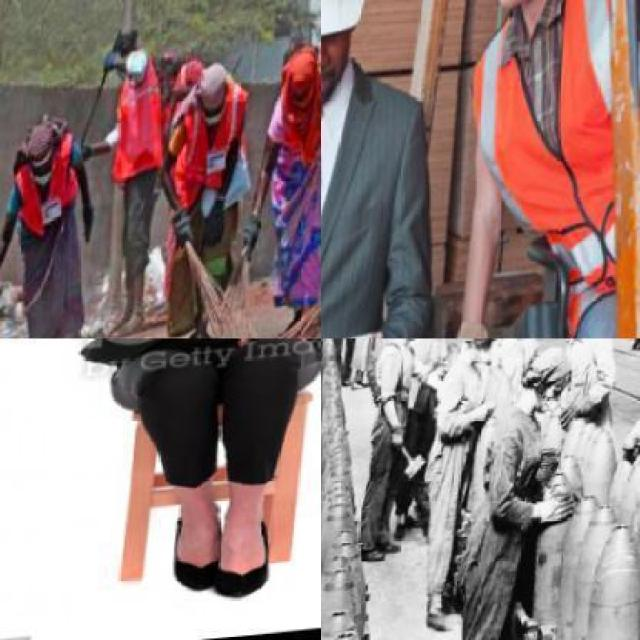Vest: (446, 0, 638, 332), (178, 106, 262, 209), (112, 69, 182, 186), (9, 157, 91, 238), (274, 76, 318, 172)
